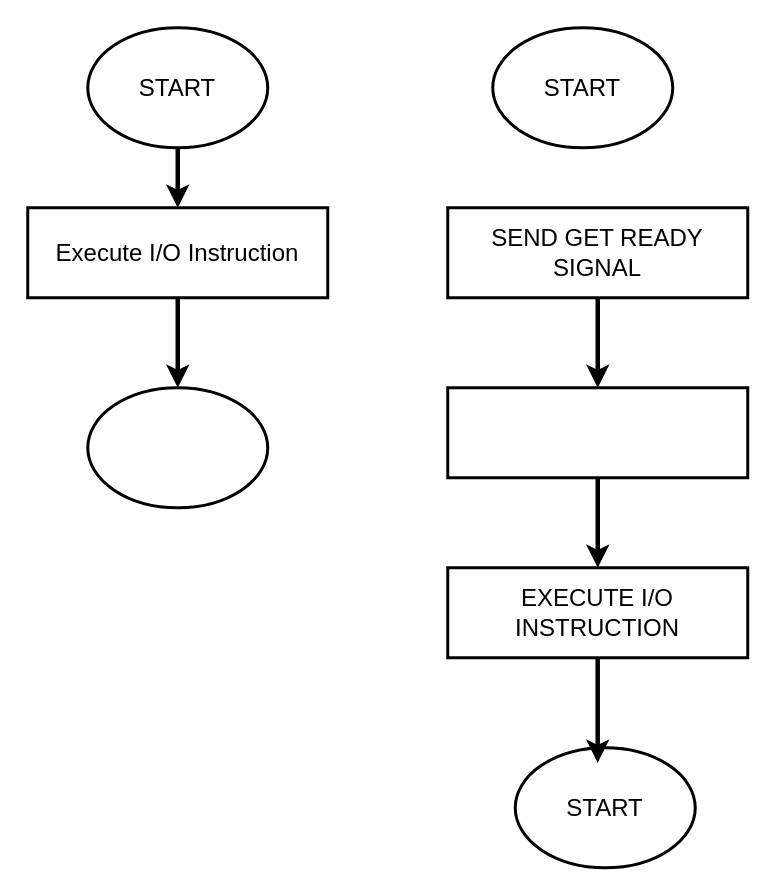
The diagram is 774 pixels wide and 894 high, and some of its shapes have lost their labels. The shapes that lost their labels are listed below. From the top down, each one's centre as x and y in pixels, then its label:
At [177,447]: "STOP".
At [597,432]: "GENERATE DELAY".
